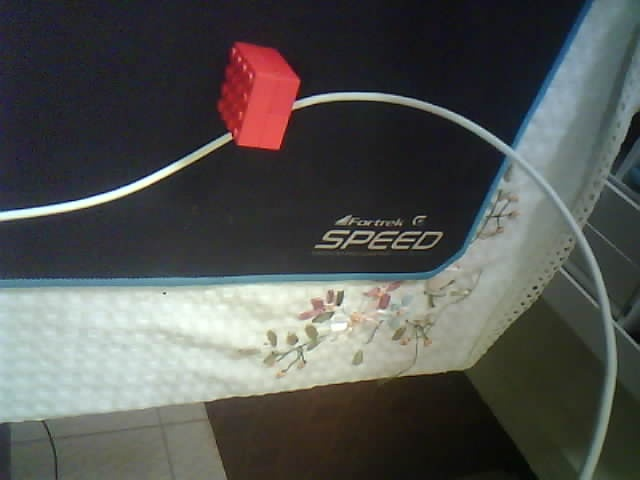lego: (214, 40, 301, 152)
